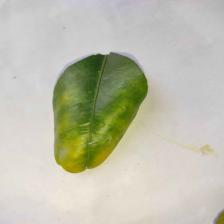greening: (36, 104, 110, 184)
